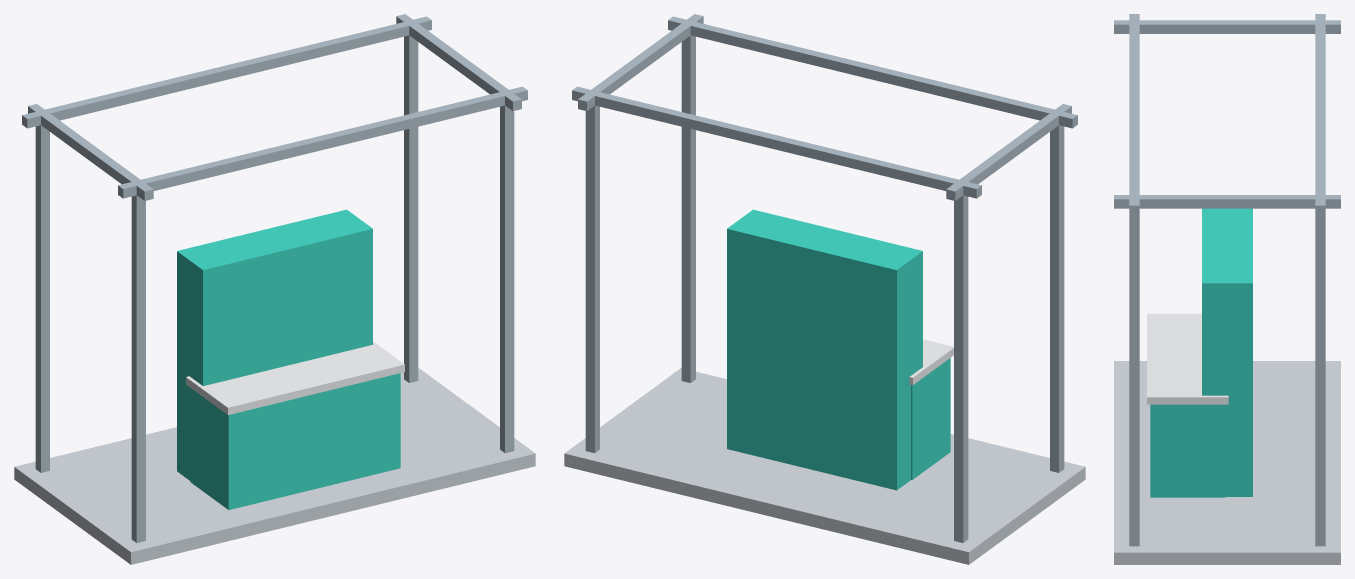
3 views of the same model, side by side, from view 1: azimuth 30°, elevation 25°; view 2: azimuth 150°, elevation 25°; view 3: azimuth 270°, elevation 25° (orthographic). The views are drawn at different scales.
Visible parts, largest first — view 1: Exhibition Booth Concept; view 2: Exhibition Booth Concept; view 3: Exhibition Booth Concept.
Part boxes in pixels (<box>): Exhibition Booth Concept: <box>14,14,535,564</box>; Exhibition Booth Concept: <box>564,14,1085,564</box>; Exhibition Booth Concept: <box>1114,14,1340,564</box>.
Bounding box in the file's own units: 4 × 3.49 × 2.
